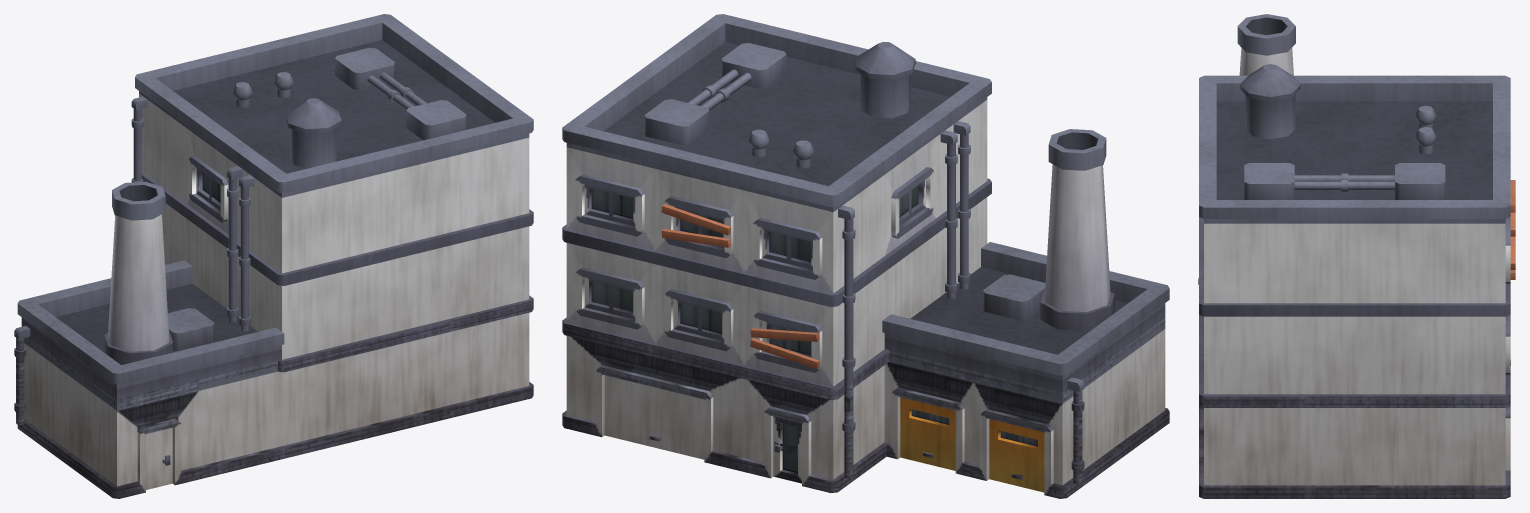
The model's file is building-b-white.glb.
3 views of the same model, side by side, from view 1: azimuth 30°, elevation 25°; view 2: azimuth 150°, elevation 25°; view 3: azimuth 270°, elevation 25° (orthographic). The views are drawn at different scales.
Parts seen in each view (by area): view 1: building-b; view 2: building-b; view 3: building-b.
Boxes of the visible parts, x1,y1,x2,y2 form: building-b: (14, 14, 533, 498); building-b: (562, 14, 1169, 498); building-b: (1198, 14, 1515, 498).
Size of the model in its own units: 2.08 by 1.47 by 1.26.
1 material, 1 textured.
